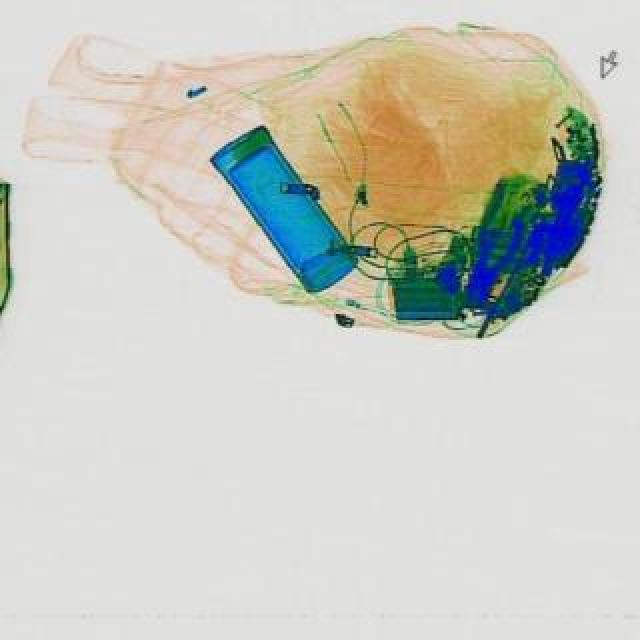wrench: (450, 212, 530, 316)
